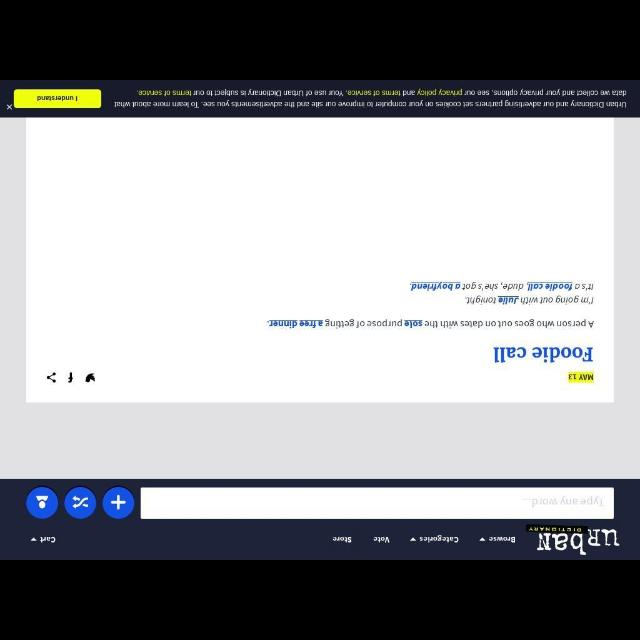button: (102, 486, 136, 520), (64, 486, 98, 520), (26, 484, 56, 522)
icon: (33, 491, 51, 513), (110, 493, 128, 511), (71, 494, 89, 510), (46, 371, 56, 384), (85, 372, 96, 382), (66, 372, 76, 383), (478, 536, 488, 546), (29, 534, 39, 542), (409, 534, 415, 544), (6, 102, 12, 111)
iframe: (0, 86, 638, 116)
image: (526, 526, 624, 558)
input: (141, 486, 613, 520)
link: (268, 316, 324, 328), (527, 282, 573, 294), (410, 283, 460, 289), (404, 317, 424, 329), (499, 296, 517, 306)
spinner: (405, 531, 465, 549), (474, 531, 518, 549), (24, 530, 60, 548)
text: (112, 86, 630, 112), (264, 317, 596, 329), (407, 279, 595, 295), (492, 342, 596, 366), (524, 494, 604, 511), (463, 295, 597, 305), (417, 535, 459, 545), (34, 94, 80, 102), (331, 532, 354, 546), (568, 372, 594, 384), (372, 534, 390, 548), (488, 535, 514, 543), (41, 534, 58, 544)
textbutton: (12, 88, 104, 110)
toolbar: (1, 480, 638, 558)
